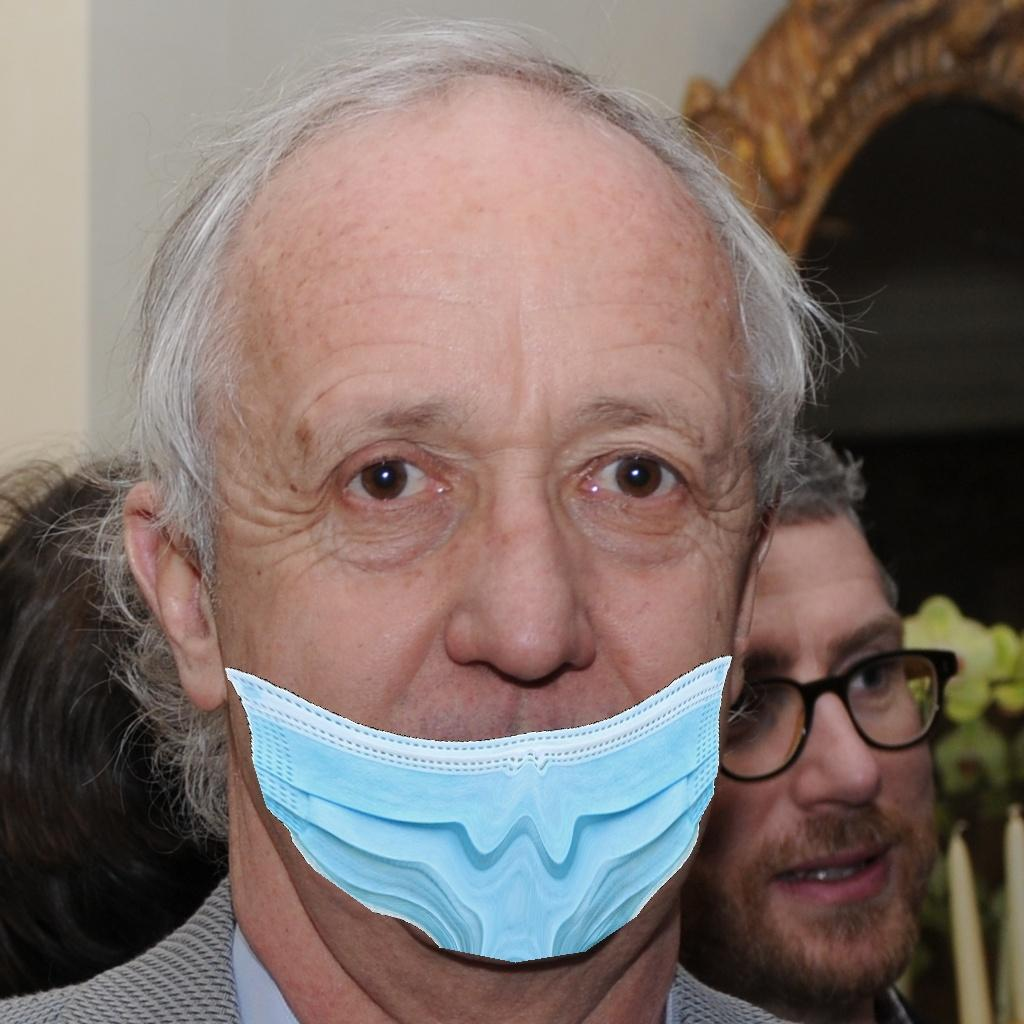Máscara Incorreta: (213, 307, 750, 946)
Sem Máscara: (714, 499, 953, 958)
